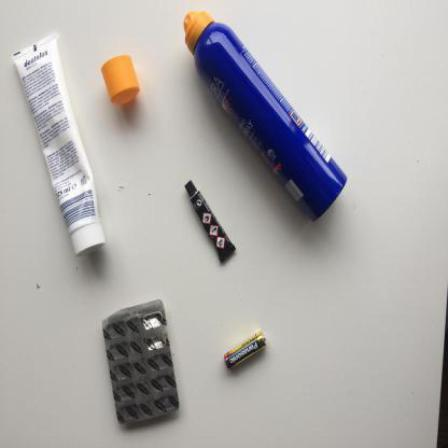Bottle cap: (102, 56, 141, 106), (71, 224, 107, 257)
Can: (184, 12, 348, 223)
Other litter: (12, 34, 107, 259), (103, 300, 180, 425), (186, 181, 237, 264), (226, 332, 268, 371)
